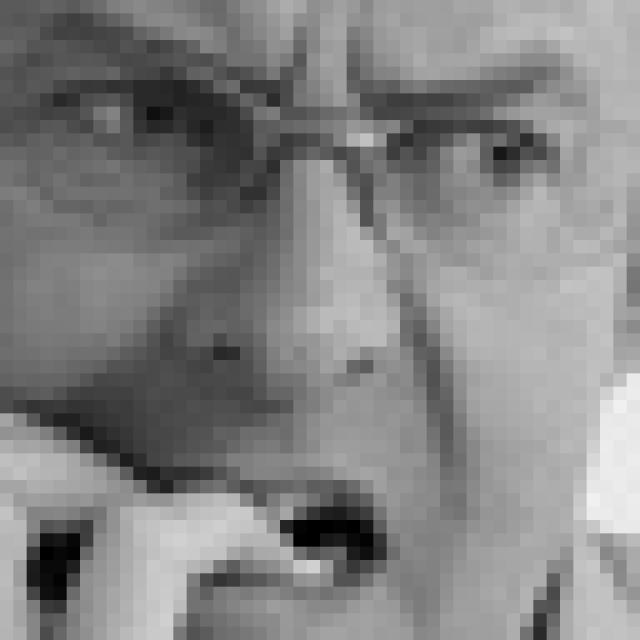fear: (38, 0, 589, 596)
